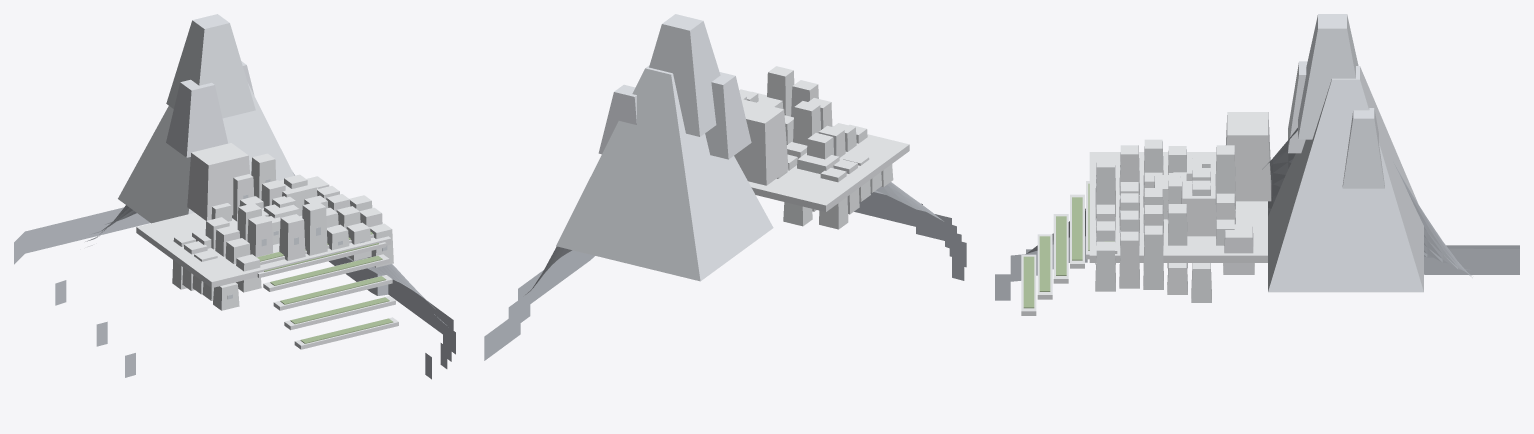
The model's file is machu-picchu.glb.
The picture shows the model from 3 angles, left to right: view 1: azimuth 30°, elevation 25°; view 2: azimuth 150°, elevation 25°; view 3: azimuth 270°, elevation 25°; orthographic projection. The views are drawn at different scales.
Visible parts, largest first — view 1: citadel-blocks, huayna-picchu, ridge, terraces; view 2: huayna-picchu, citadel-blocks, ridge; view 3: huayna-picchu, citadel-blocks, ridge, terraces.
Part boxes in pixels (box(x1,y1,x2,y2)): citadel-blocks: box(136, 143, 398, 349); huayna-picchu: box(118, 14, 294, 223); ridge: box(14, 172, 455, 379); terraces: box(257, 231, 393, 343); huayna-picchu: box(556, 14, 773, 281); citadel-blocks: box(734, 66, 909, 229); ridge: box(484, 182, 966, 360); huayna-picchu: box(1268, 14, 1423, 292); citadel-blocks: box(1021, 112, 1271, 315); ridge: box(995, 128, 1519, 300); terraces: box(1023, 183, 1114, 308).
Size of the model in its own units: 34.67 by 31.9 by 47.08.
